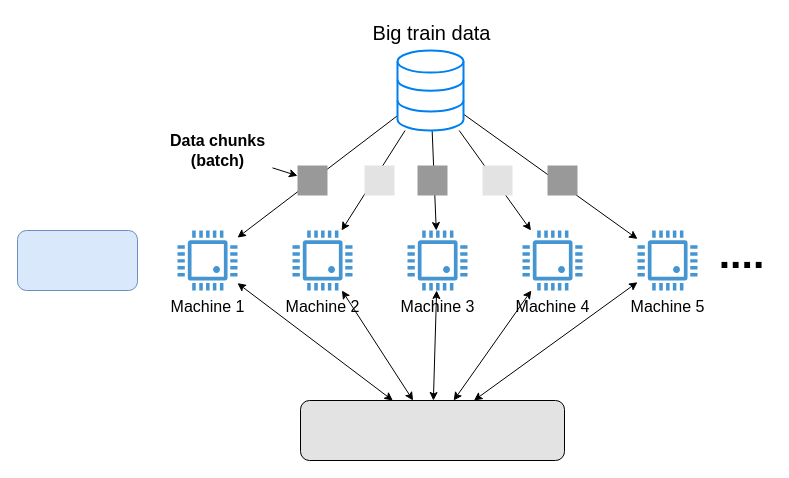
Some shapes in this 789 by 478 pixel diagram are drawn without their labels. The shapes that lost their labels are listed below. From the top down, each one's box as (x1, y1, x2, y2) in pixels, then its label:
(16, 230, 138, 290): - Compute loss - Compute gradient
(300, 400, 564, 460): Parameter pool
